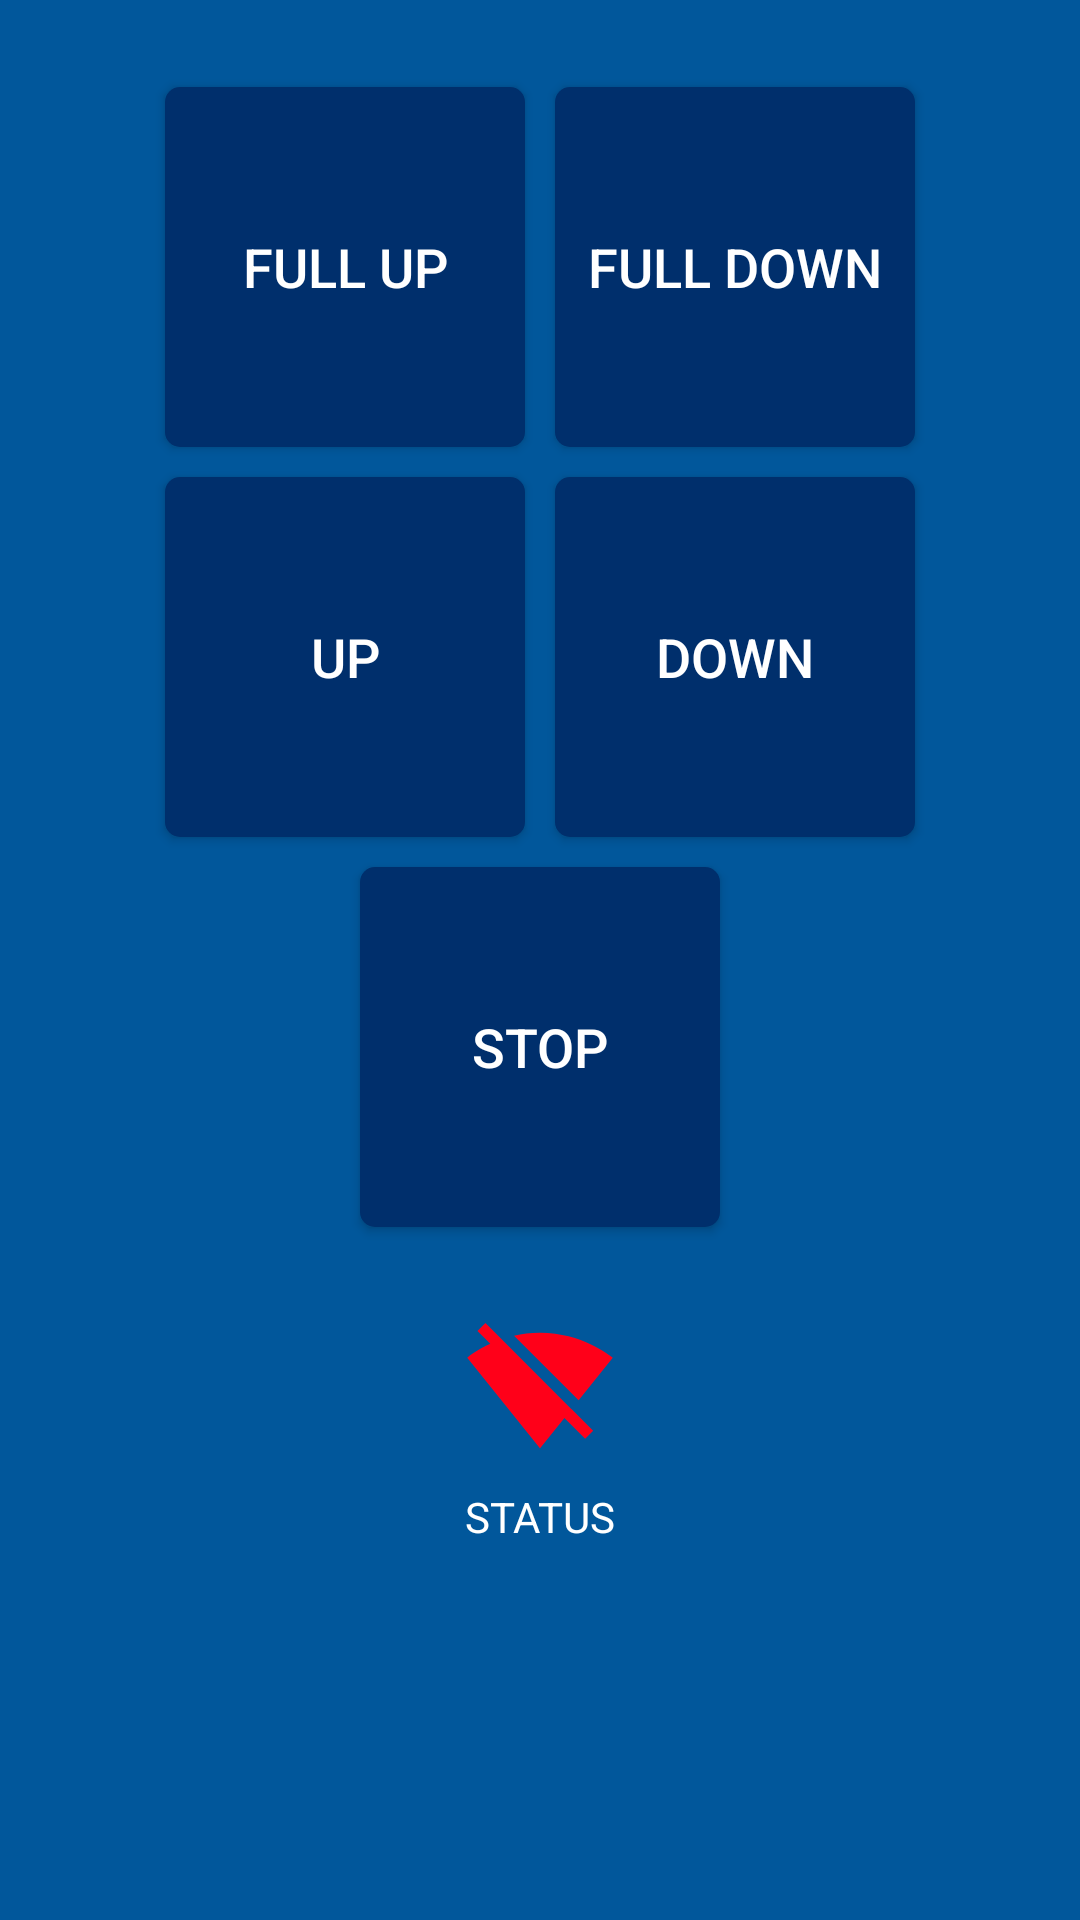

Named icons in this screenshot (1080×1920) and their centers, (x=x, y=y):
signal wifi off: (x=540, y=1385)
